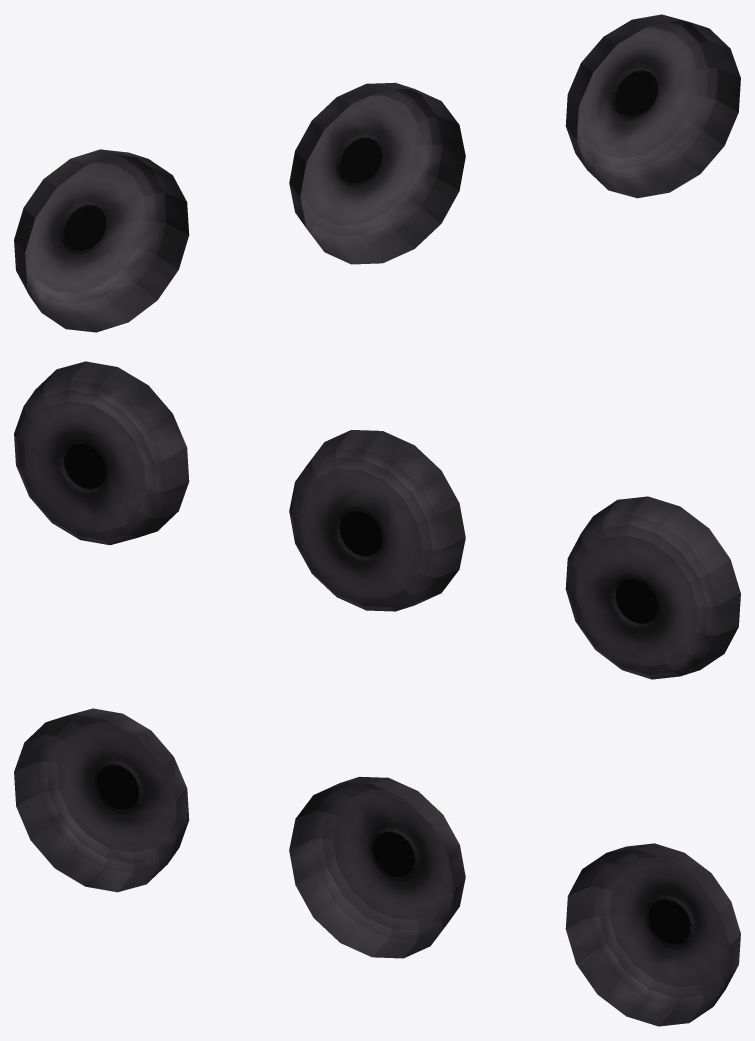
The model's file is gate_base.dae.
The picture shows the model from 3 angles, top to bottom: view 1: azimuth 30°, elevation 25°; view 2: azimuth 150°, elevation 25°; view 3: azimuth 330°, elevation 25°; orthographic projection.
Parts seen in each view (by area): view 1: Cylinder_007, Cylinder_009, Cylinder_010; view 2: Cylinder_007, Cylinder_009, Cylinder_010; view 3: Cylinder_009, Cylinder_007, Cylinder_010.
Boxes of the visible parts, <box> form: Cylinder_007: <box>14,149,189,332</box>; Cylinder_009: <box>565,14,740,198</box>; Cylinder_010: <box>289,82,465,264</box>; Cylinder_007: <box>565,496,740,679</box>; Cylinder_009: <box>14,361,189,545</box>; Cylinder_010: <box>289,430,465,611</box>; Cylinder_009: <box>565,843,740,1026</box>; Cylinder_007: <box>14,708,189,892</box>; Cylinder_010: <box>289,776,465,958</box>.
Size of the model in its own units: 1.73 by 0.0989 by 0.4003.
Materials: 1 (1 with a texture image).
